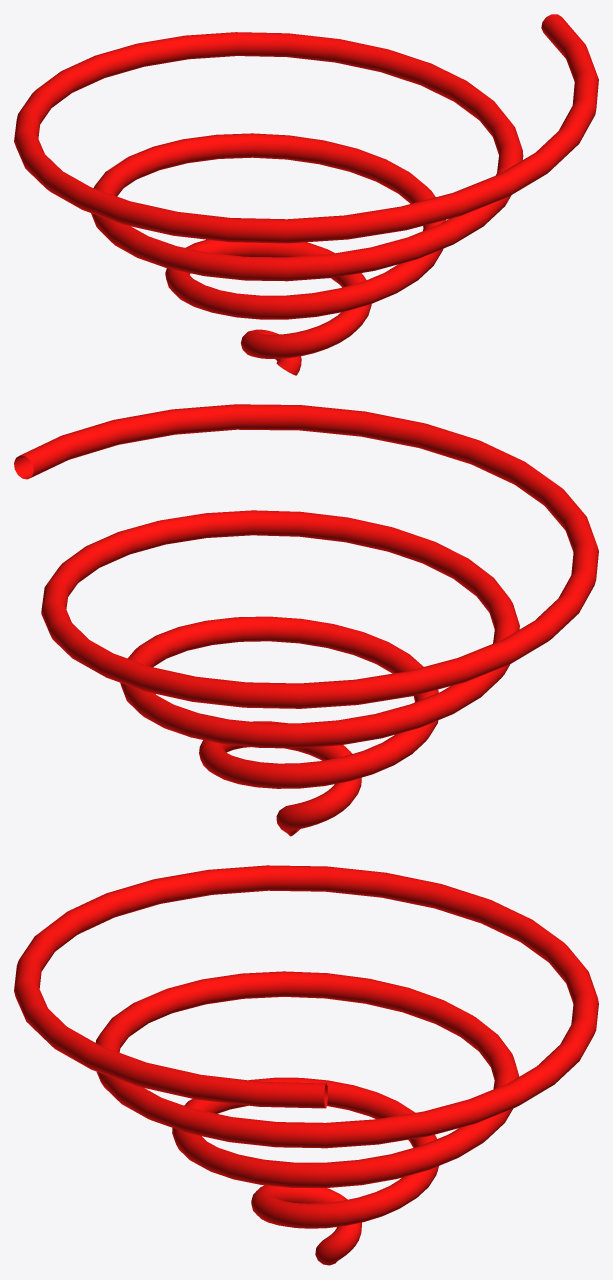
Rendered from sprnil.glb.
3 views of the same model, one above another, from view 1: azimuth 30°, elevation 25°; view 2: azimuth 150°, elevation 25°; view 3: azimuth 270°, elevation 25° (orthographic). The views are drawn at different scales.
Parts seen in each view (by area): view 1: Spiral; view 2: Spiral; view 3: Spiral.
Boxes of the visible parts, left/top/right/bottom form: Spiral: left=14, top=14, right=598, bottom=375; Spiral: left=14, top=404, right=598, bottom=836; Spiral: left=14, top=865, right=598, bottom=1265.
Size of the model in its own units: 7.84 by 4.32 by 7.33.
